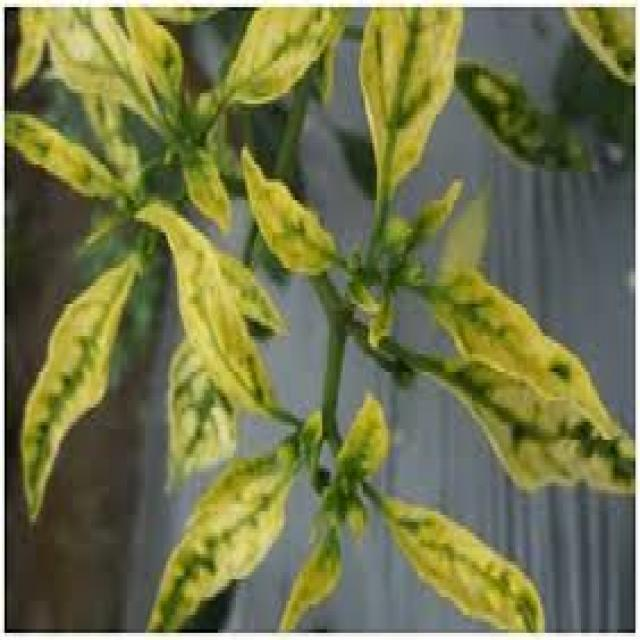virus_kuning: (134, 203, 286, 434), (152, 442, 302, 632), (435, 358, 640, 494), (375, 496, 551, 636)
